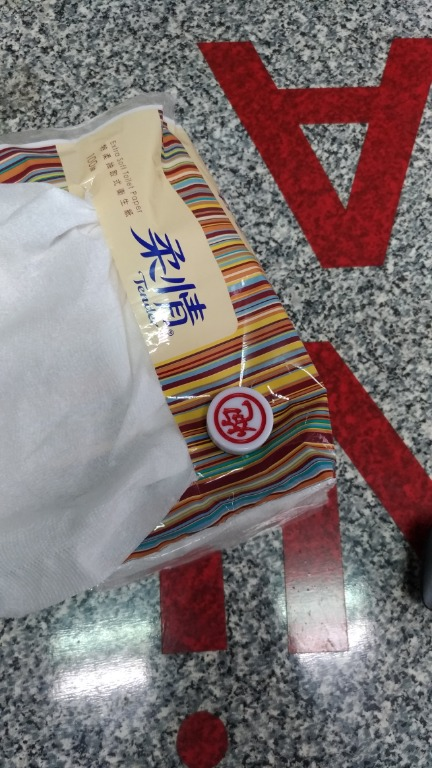r-cannon: (194, 383, 283, 458)
